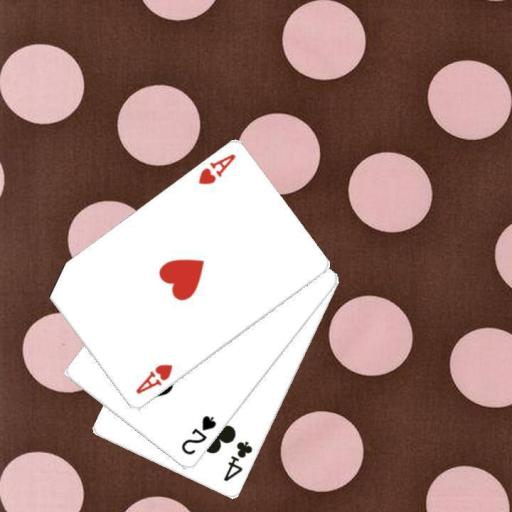card-corner: (178, 412, 218, 458), (220, 438, 254, 484), (195, 151, 237, 187), (132, 361, 174, 396)
